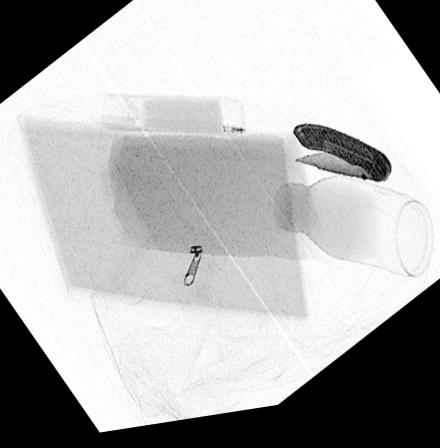Knife: (288, 129, 393, 195)
